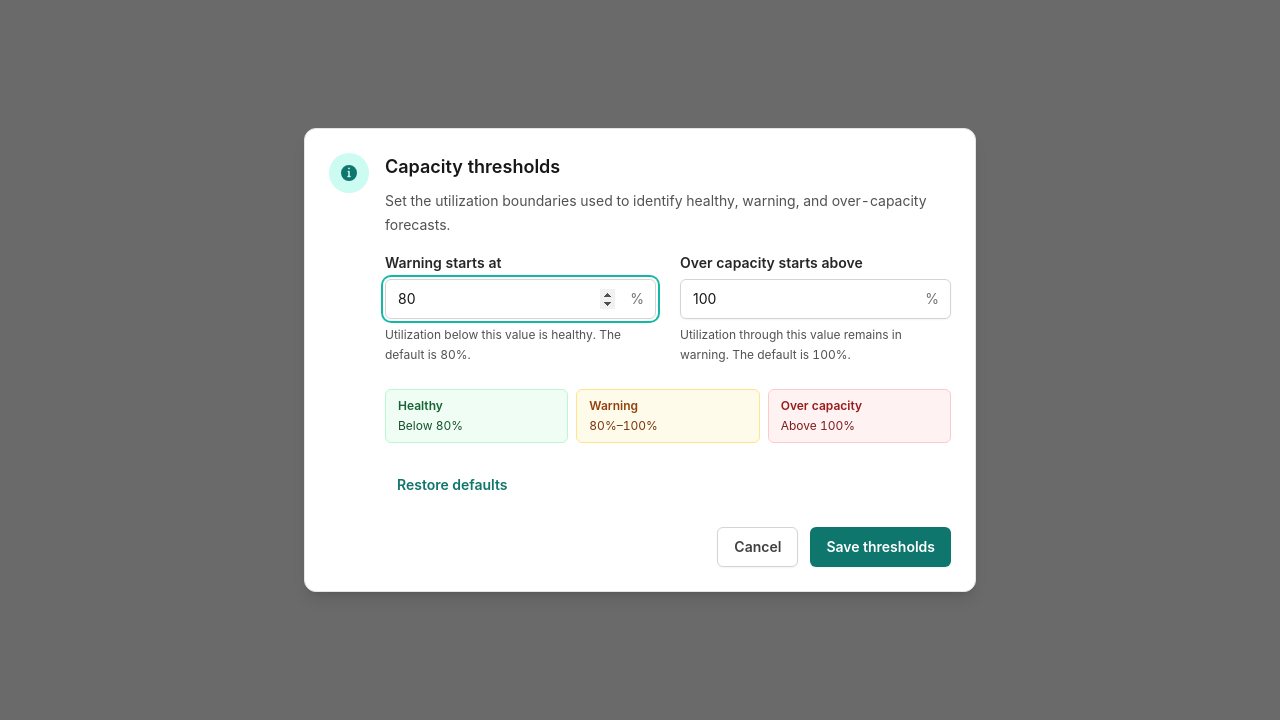
it: ThresholdSettingsDialog › keeps immediate store changes and displays a quota warning when durable persistence fails
The image size is (1280, 720).
Replace the text in the number field labelled "Warning starts at" with "75": (520, 299) x1=385 y1=279 x2=656 y2=319
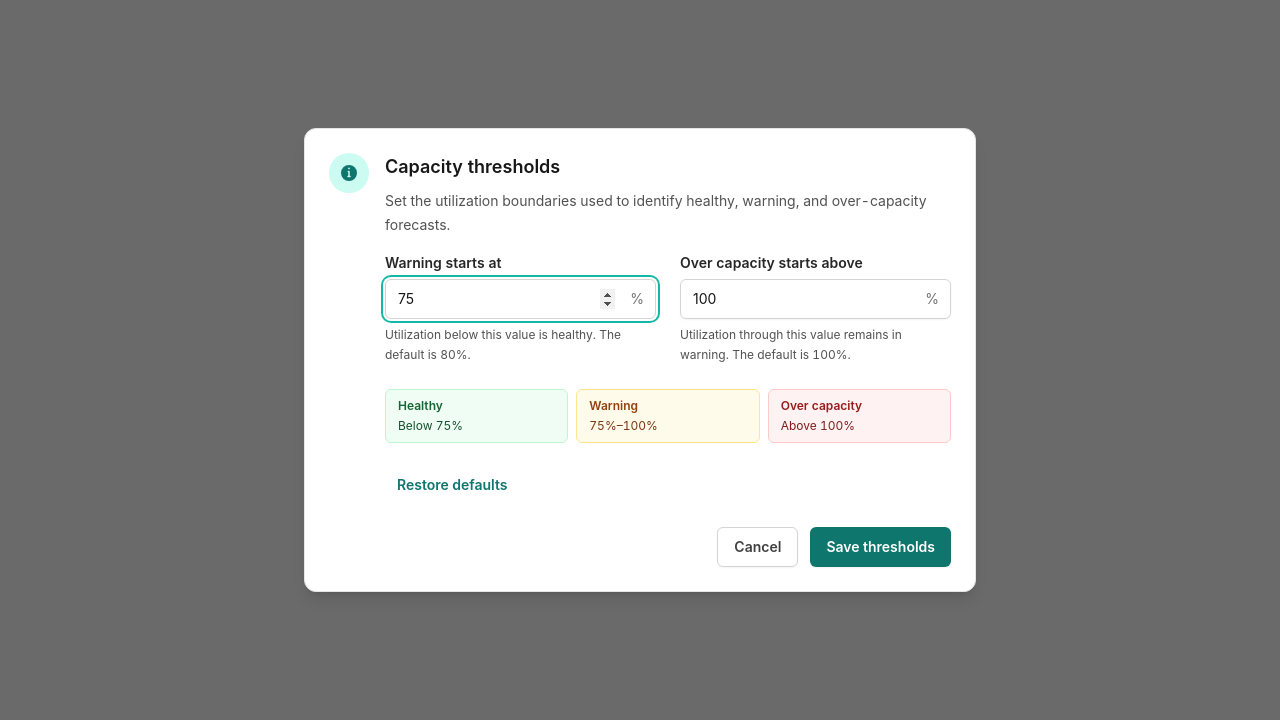
Clear the number field labelled "Over capacity starts above": (816, 299) x1=680 y1=279 x2=951 y2=319
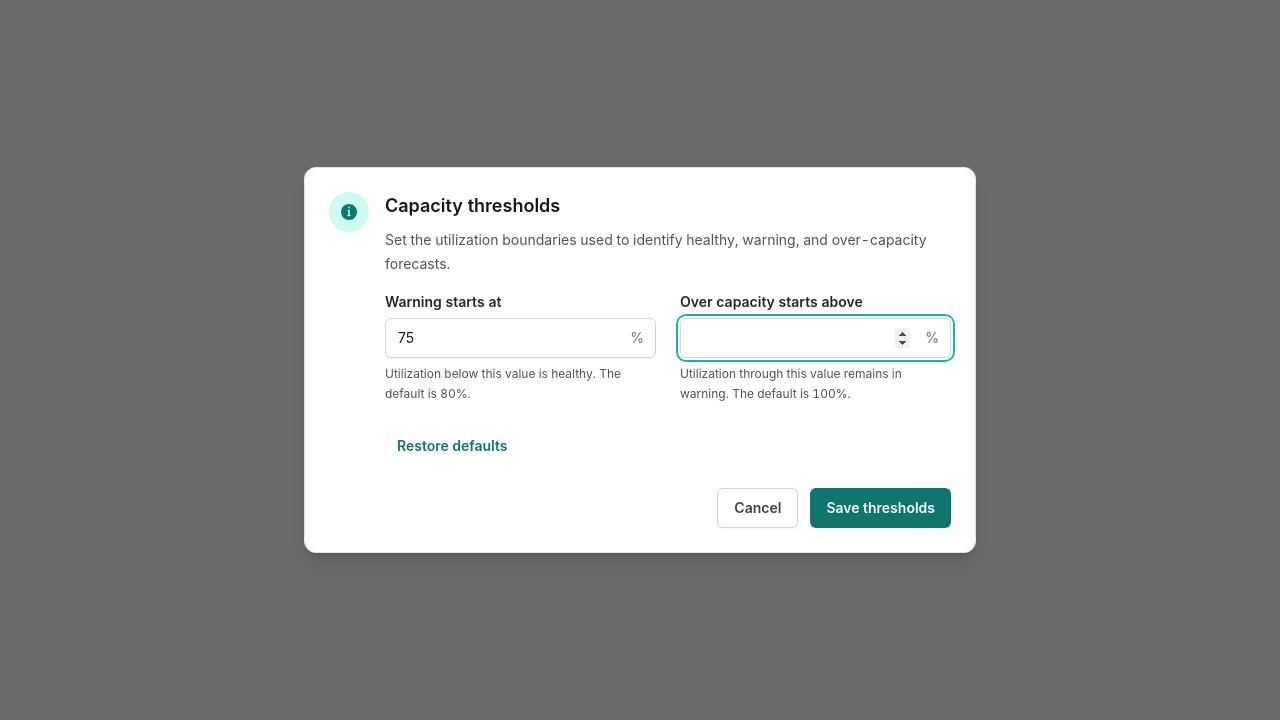
In the number field labelled "Over capacity starts above": (816, 338) x1=680 y1=318 x2=951 y2=358, type "105"
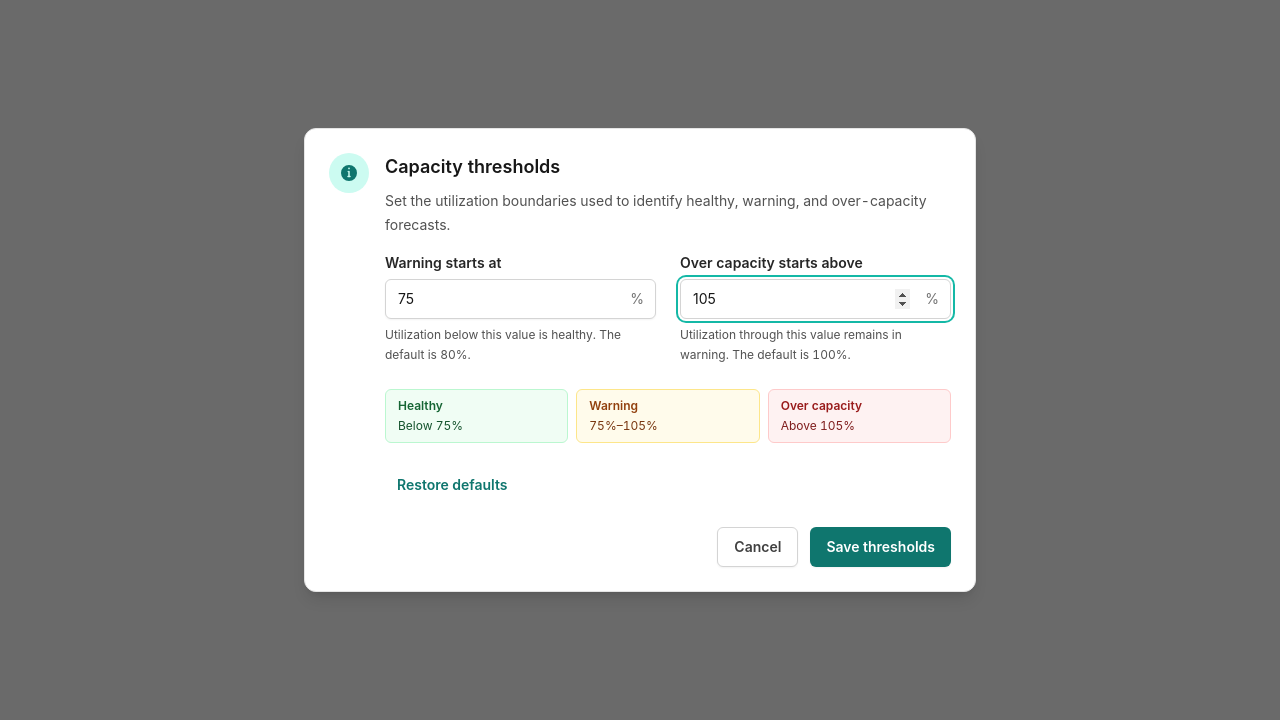
Click the button "Save thresholds": (881, 547) x1=810 y1=527 x2=951 y2=567
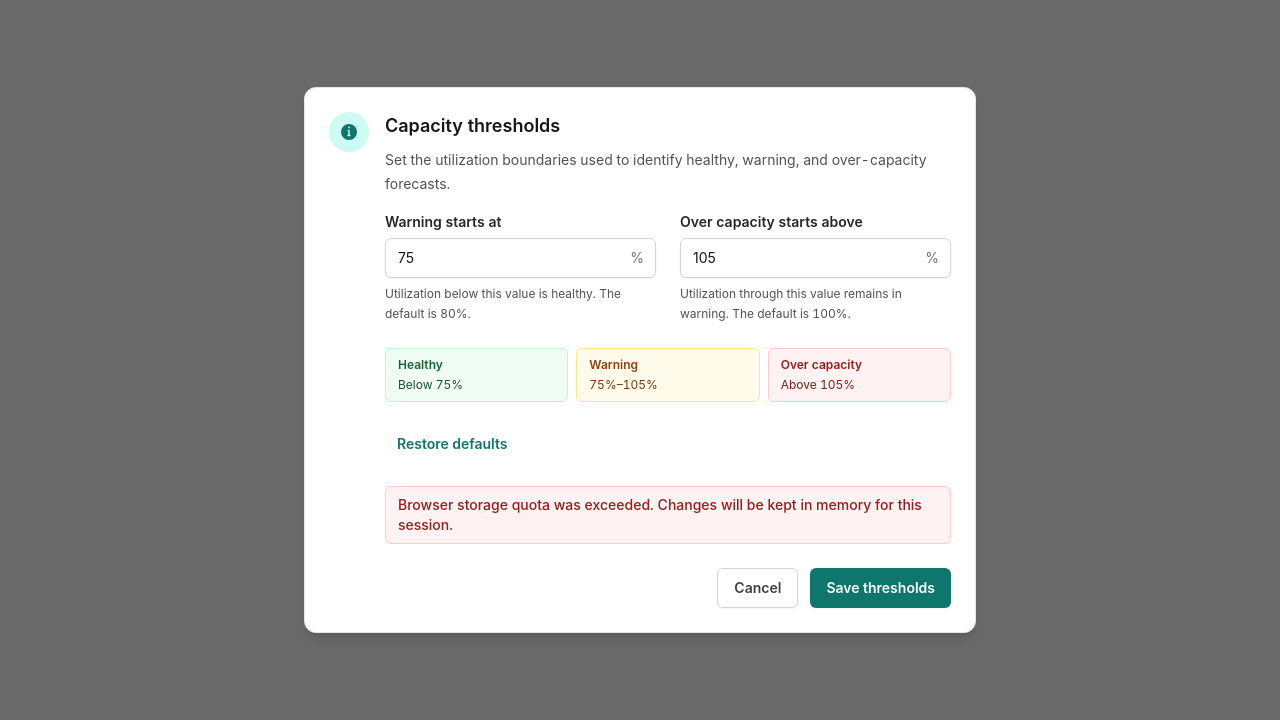
Expected: the dialog "Capacity thresholds" is shown, x1=304 y1=87 x2=976 y2=633
Result: the message shows "Browser storage quota was exceeded. Changes will be kept in memory for this session." at x1=398 y1=496 x2=922 y2=533
